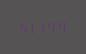five: (18, 20, 27, 34)
four: (48, 19, 57, 33), (58, 19, 67, 33)
one: (28, 20, 37, 34)
seven: (38, 20, 47, 33)
